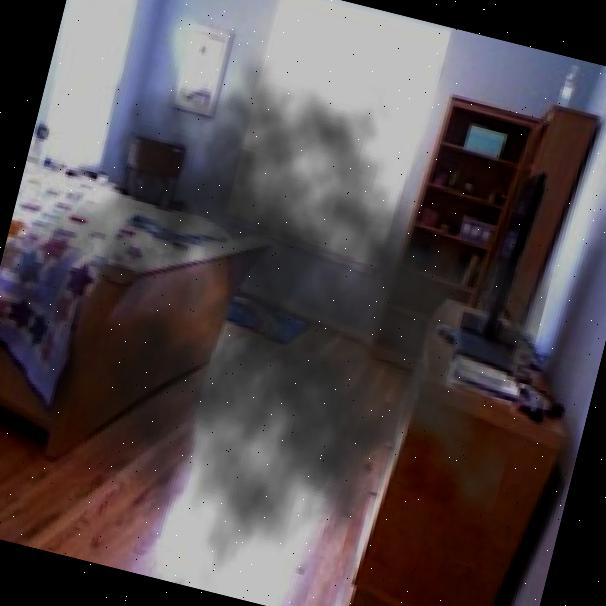smoke: (0, 11, 586, 606)
